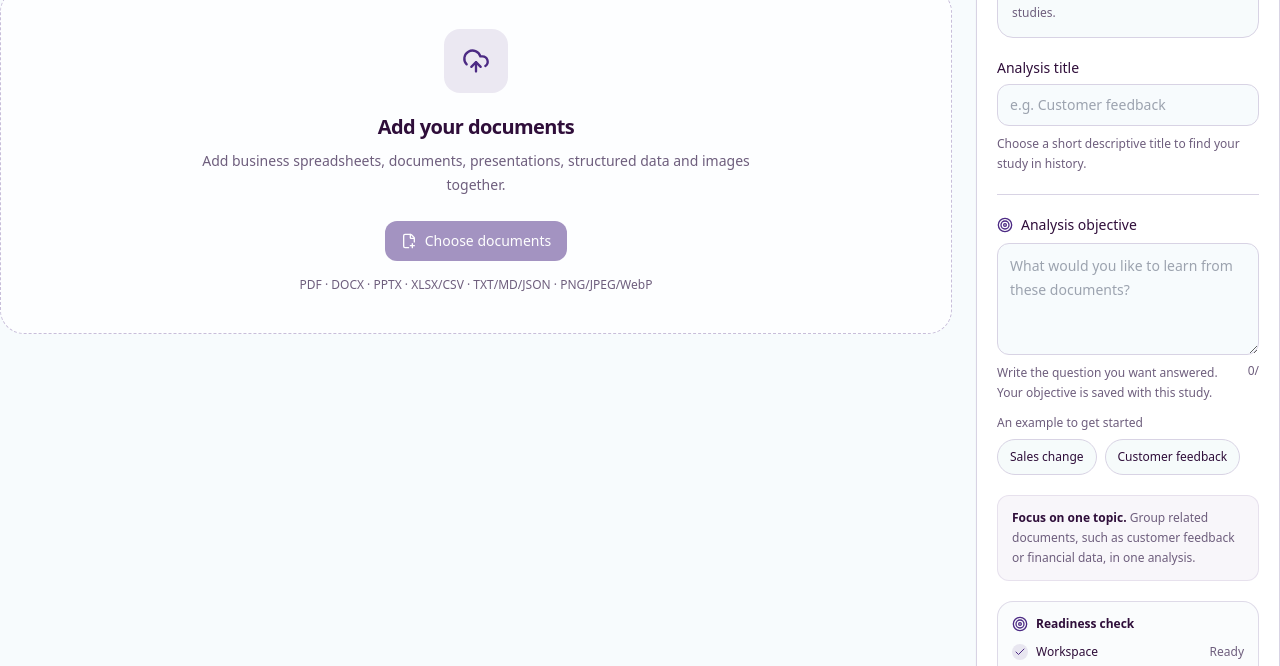
Test: NewAnalysisPage › en: örnek hedefi seçili dilde ekler; tekrar seçim ve dil değişiminden sonra özgün metni geri alır
(page scrolled)
Type "Özgün müşteri sorum" into the text box labelled "Analysis objective" at (1128, 299), box x1=997 y1=243 x2=1259 y2=355
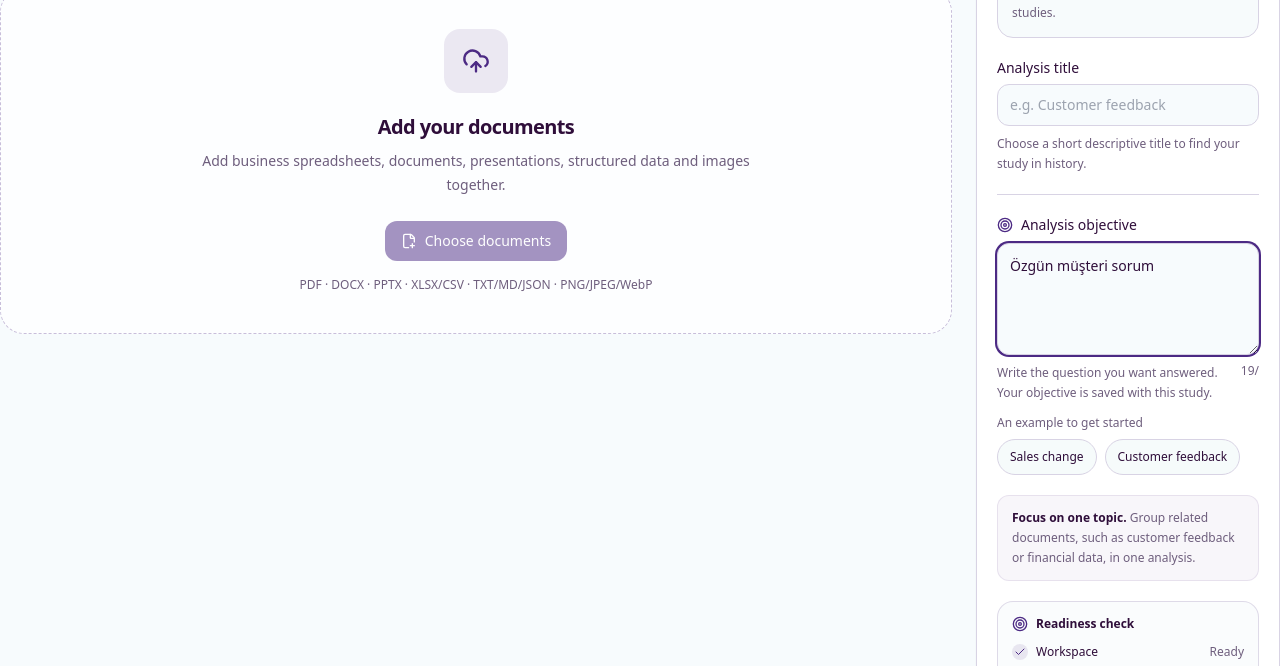
Click the button "Sales change" at (1047, 457), box x1=997 y1=439 x2=1096 y2=475
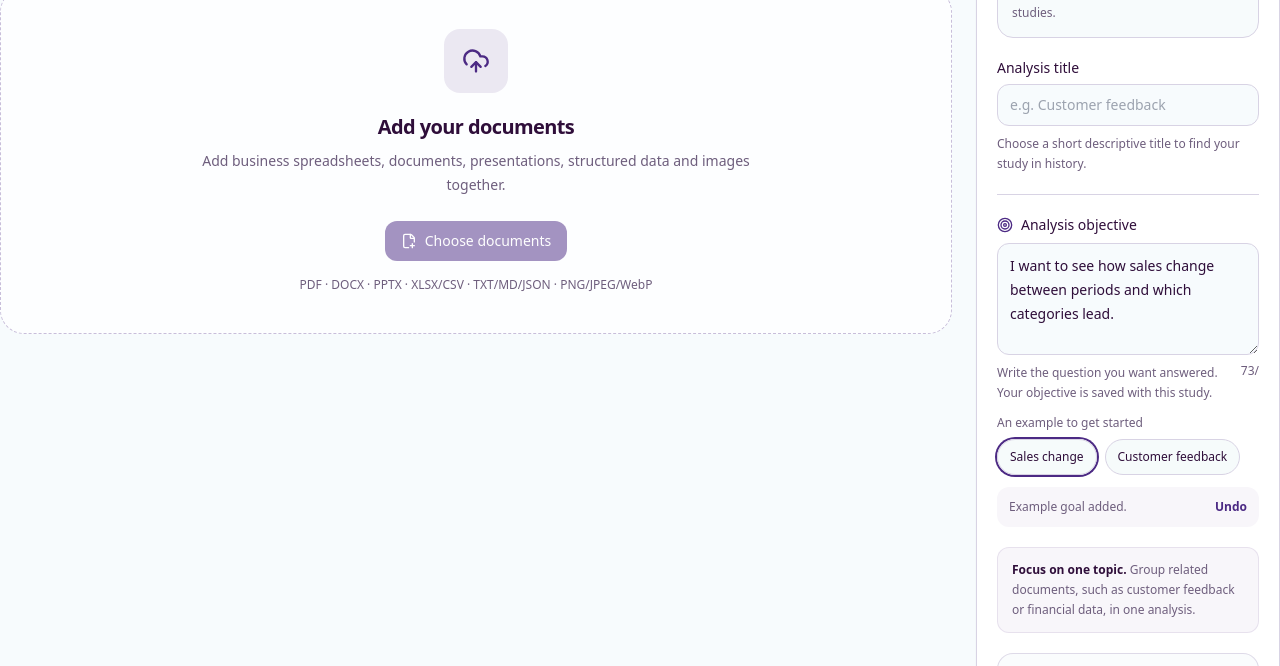
expect the text box labelled "Analysis objective" holds "I want to see how sales change between periods and which categories lead.": met, box x1=997 y1=243 x2=1259 y2=355
Click the button "Customer feedback" at (1172, 457), box x1=1104 y1=439 x2=1240 y2=475
(page scrolled)
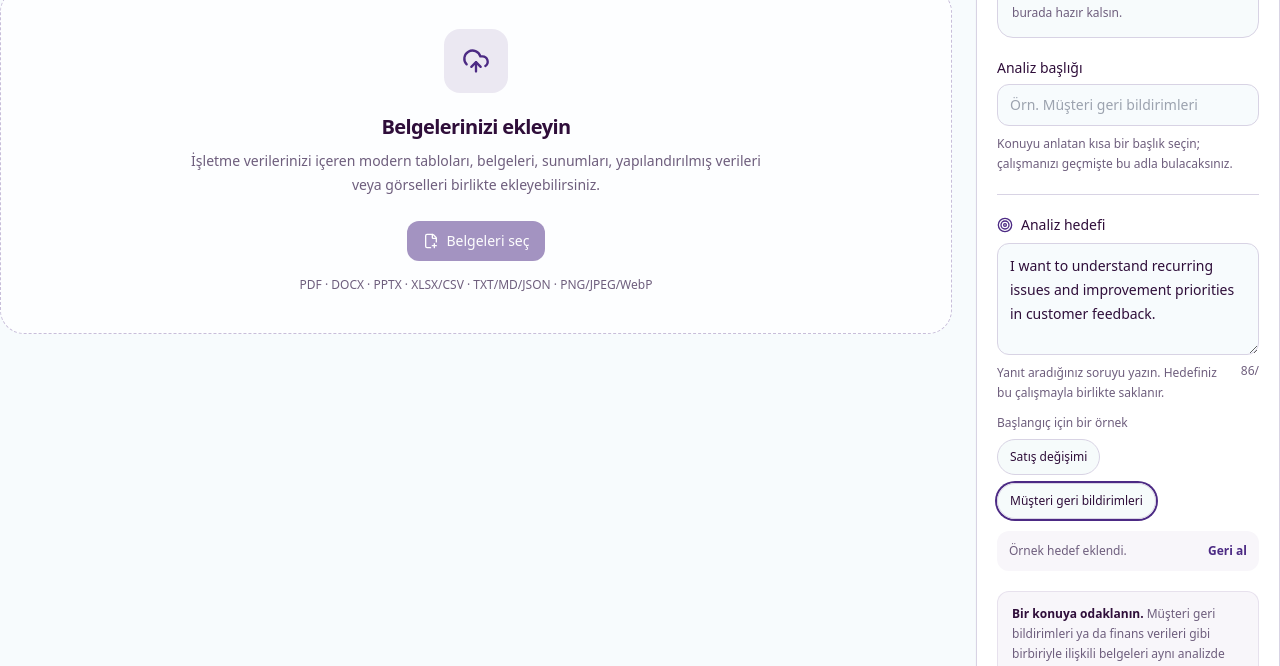
expect the text box named "Analysis objective" holds "I want to understand recurring issues and improvement priorities in customer feedback.": met, box x1=997 y1=243 x2=1259 y2=355
Click the button "Geri al" at (1228, 551), box x1=1200 y1=531 x2=1255 y2=571
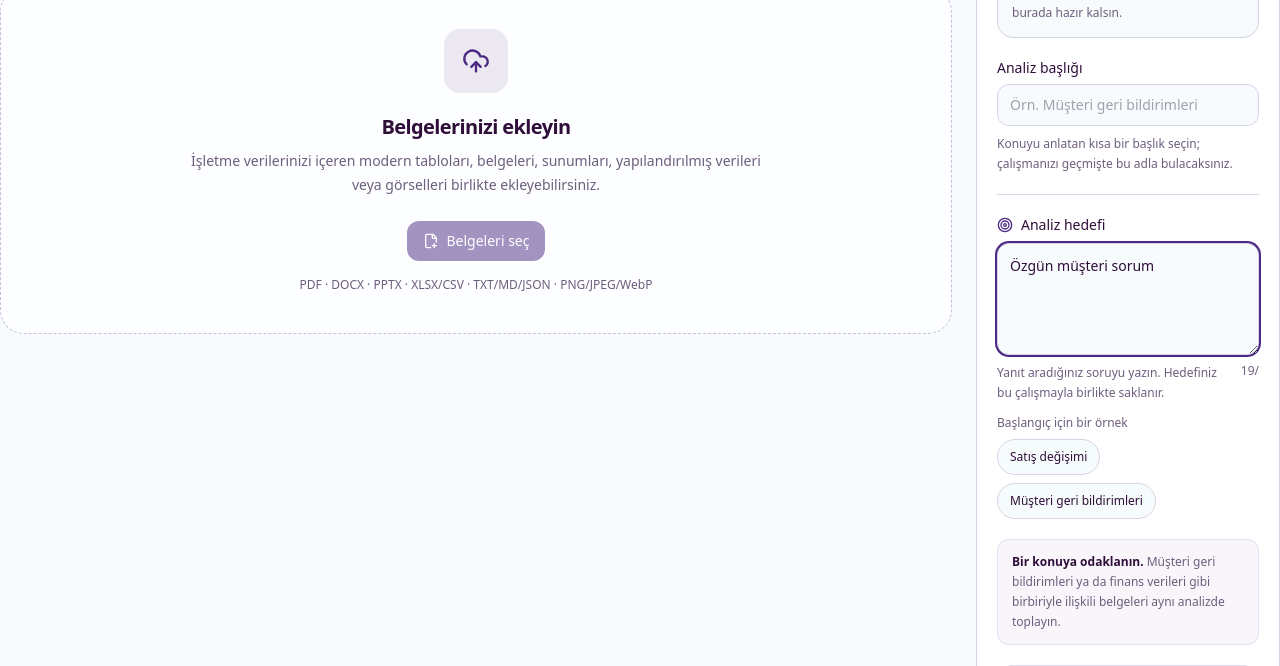
expect the button "Geri al" is gone: met
